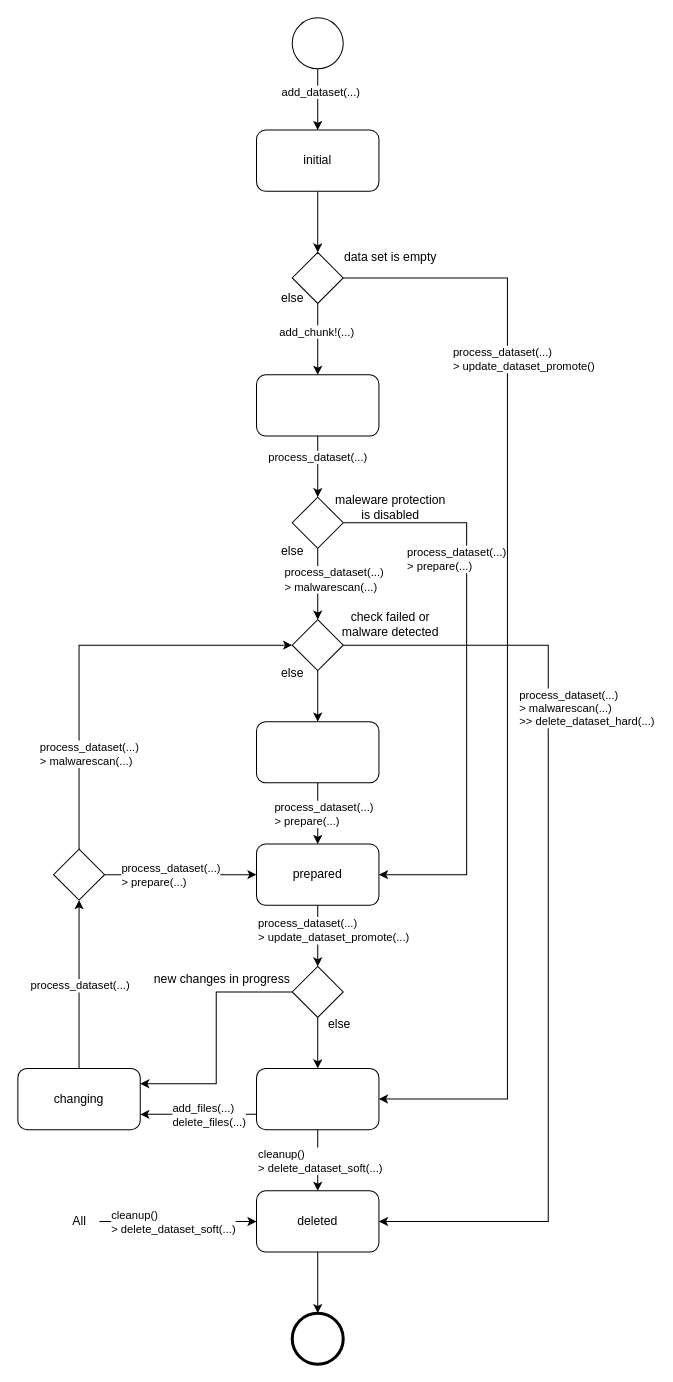
Some shapes in this 673 by 1382 pixel diagram are drawn without their labels. The shapes that lost their labels are listed below. From the top down, each one's centre as x and y in pixels, then its label:
At [317,405]: "uploaded".
At [317,752]: "scanned".
At [317,1098]: "available".
